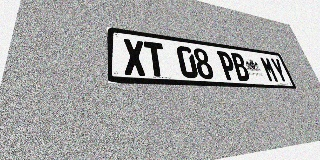0: (176, 45, 199, 79)
8: (192, 47, 215, 79)
B: (230, 52, 251, 81)
M: (259, 56, 280, 82)
P: (216, 51, 238, 80)
T: (144, 41, 167, 77)
X: (123, 38, 147, 76)
Y: (269, 58, 289, 83)
